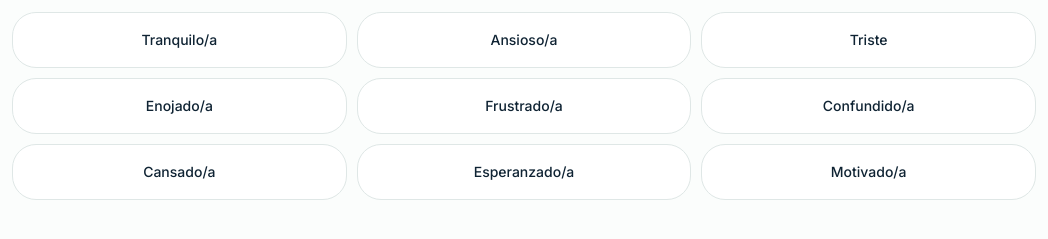
EmotionSelector › en modo único reemplaza la selección
This screenshot has width=1048, height=239.
Click the button "Triste".
click(869, 40)  # box [701,12,1036,68]
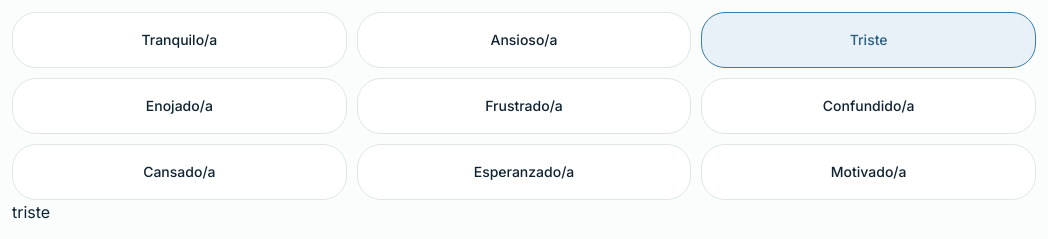
Click the button "Motivado/a".
click(869, 172)  # box [701,144,1036,200]
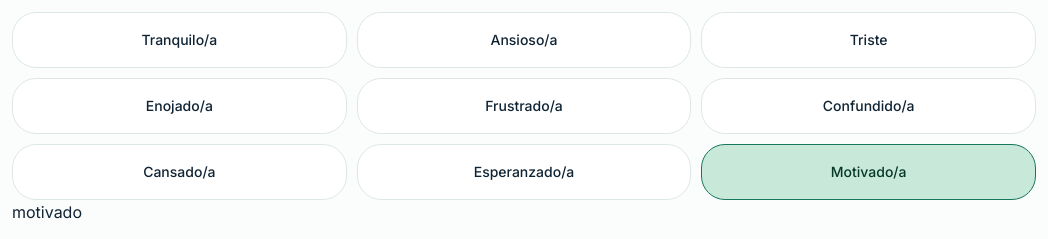
Check: the text with test id "value" reads "motivado", box [12,202,82,222]
